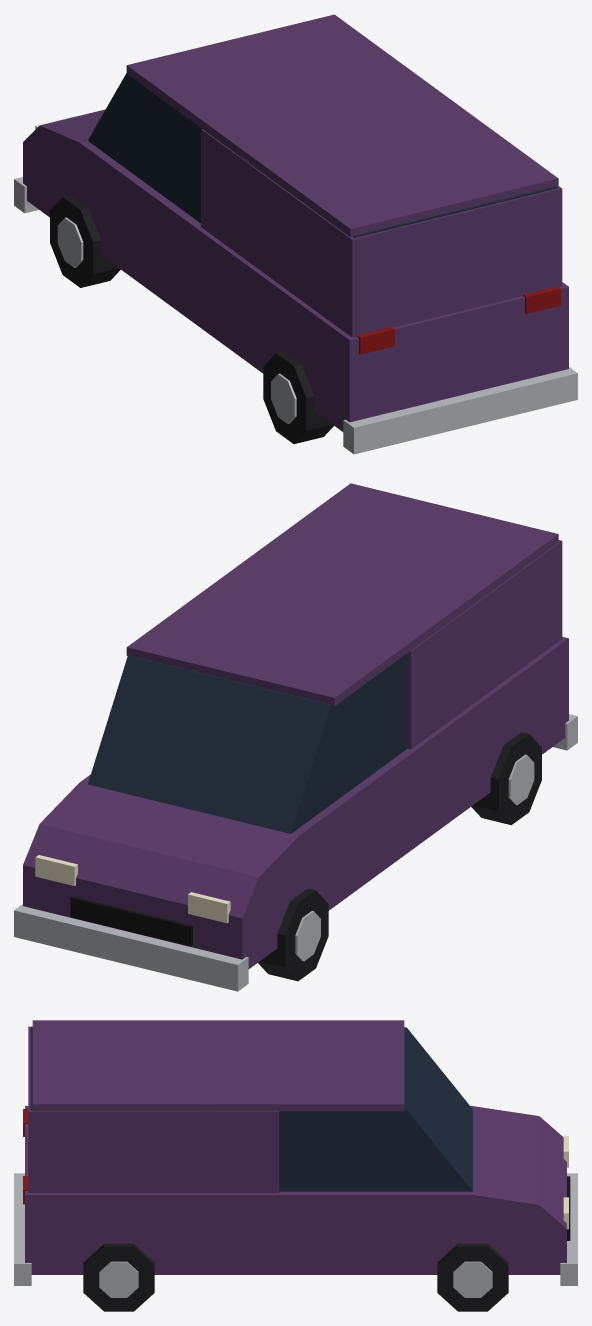
The model's file is CarVanPlum.obj.
3 renders of one model, top to bottom at view 1: azimuth 30°, elevation 25°; view 2: azimuth 150°, elevation 25°; view 3: azimuth 270°, elevation 25°, orthographic. The views are drawn at different scales.
Parts seen in each view (by area): view 1: CarVanPlum; view 2: CarVanPlum; view 3: CarVanPlum.
Part boxes in pixels (box(x1,y1,x2,y2)): CarVanPlum: box(14, 14, 577, 454); CarVanPlum: box(14, 483, 577, 991); CarVanPlum: box(14, 1020, 577, 1311).
Bounding box in the file's own units: 2.07 × 2.01 × 5.1.
1 material, 1 textured.
